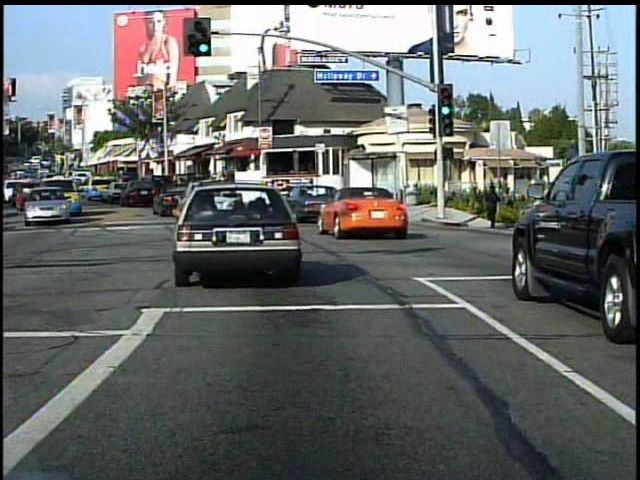person: (567, 185, 590, 246), (482, 182, 504, 229)
